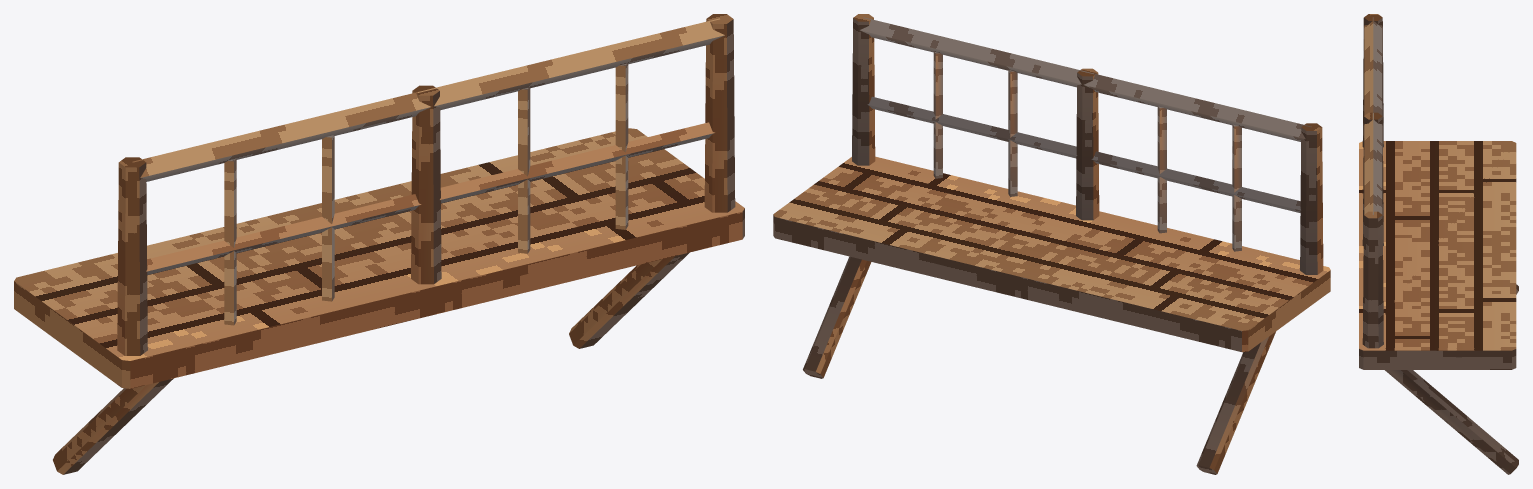
File: wtown.balcony.glb
3 views of the same model, side by side, from view 1: azimuth 30°, elevation 25°; view 2: azimuth 150°, elevation 25°; view 3: azimuth 270°, elevation 25° (orthographic). The views are drawn at different scales.
Visible parts, largest first — view 1: kit_deck, kit_railing, kit_brackets; view 2: kit_deck, kit_railing, kit_brackets; view 3: kit_deck, kit_railing, kit_brackets.
Part boxes in pixels (x1,y1,x2,y2): kit_deck: [14, 128, 744, 388]; kit_railing: [117, 14, 735, 355]; kit_brackets: [53, 252, 689, 474]; kit_deck: [773, 156, 1330, 352]; kit_railing: [852, 14, 1323, 274]; kit_brackets: [803, 256, 1275, 474]; kit_deck: [1359, 141, 1516, 369]; kit_railing: [1362, 14, 1383, 348]; kit_brackets: [1385, 284, 1518, 474].
Size of the model in its own units: 3.5 by 2.1 by 1.13.
Materials: 4 (4 with a texture image).
